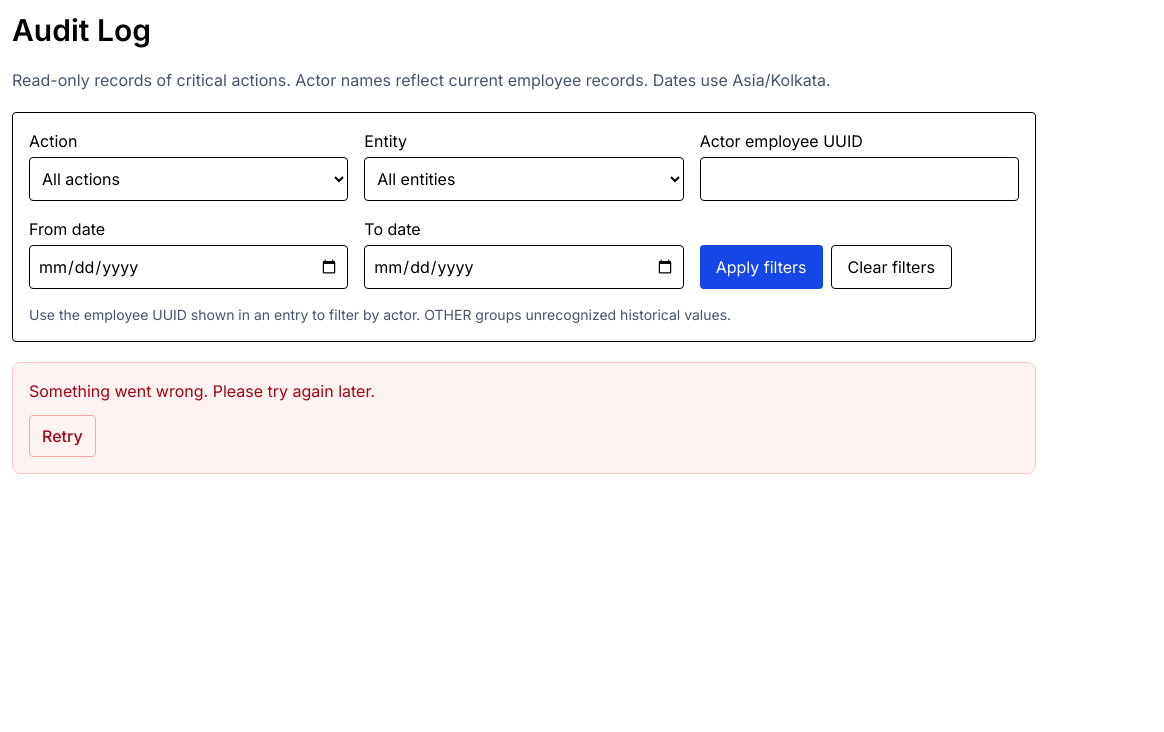
audit viewer › safe error and retry 500
Expected: the message does not show "private SQL", x1=12 y1=362 x2=1036 y2=474
Click the button "Retry" at (62, 436), box x1=29 y1=415 x2=96 y2=457
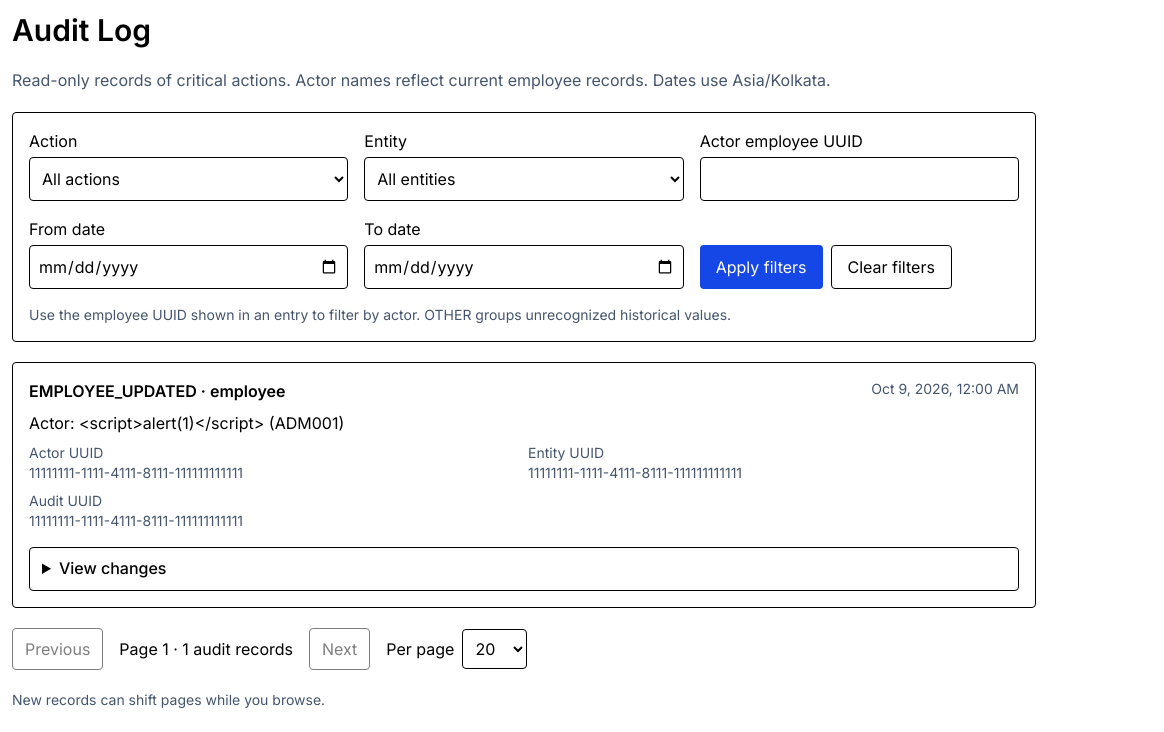
Expected: the heading "View changes" is shown, x1=29 y1=547 x2=1019 y2=591
